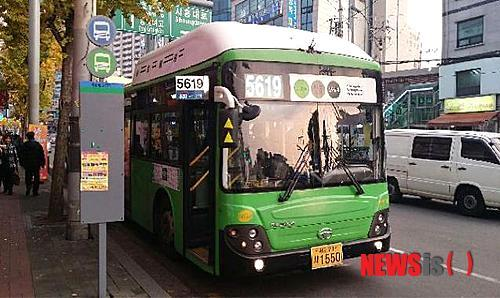bnum: (243, 74, 283, 98)
